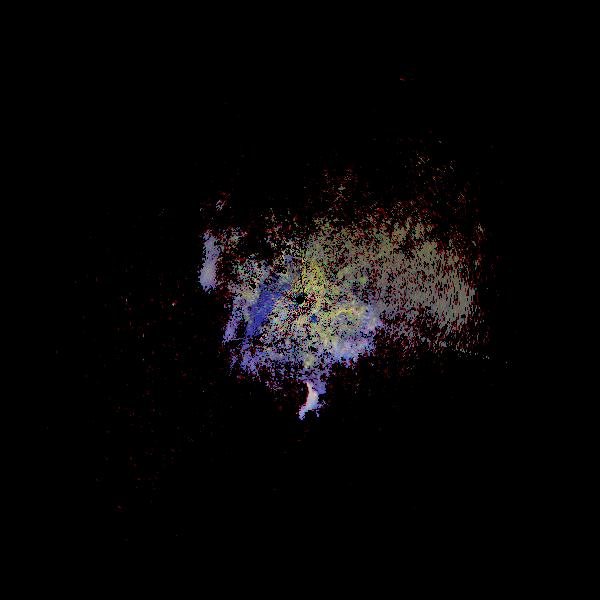roost: (307, 281, 394, 368), (259, 352, 340, 433)
